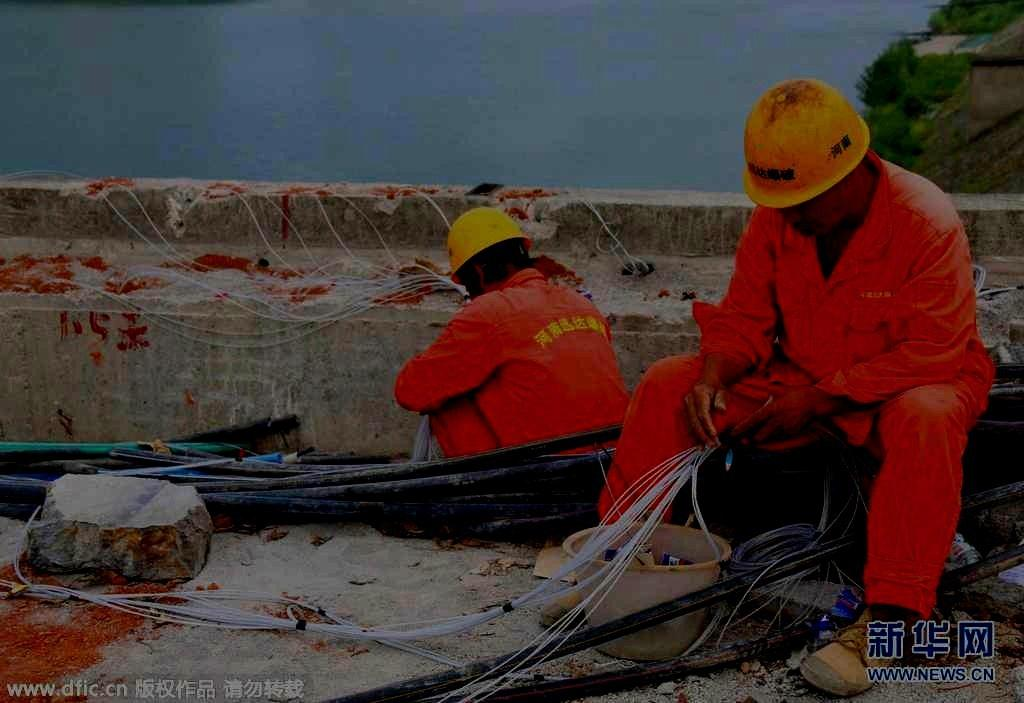helmet: (740, 75, 871, 237), (446, 205, 533, 303)
